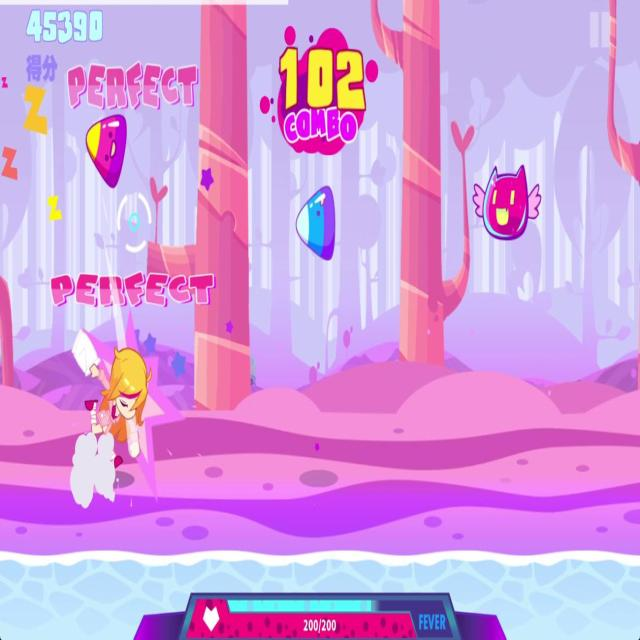jian: (292, 176, 340, 269), (82, 110, 129, 194)
mao: (470, 157, 542, 246)
